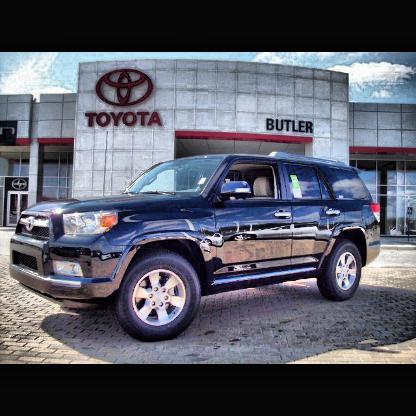Toyota 4Runner SUV 2012: (11, 152, 382, 343)
